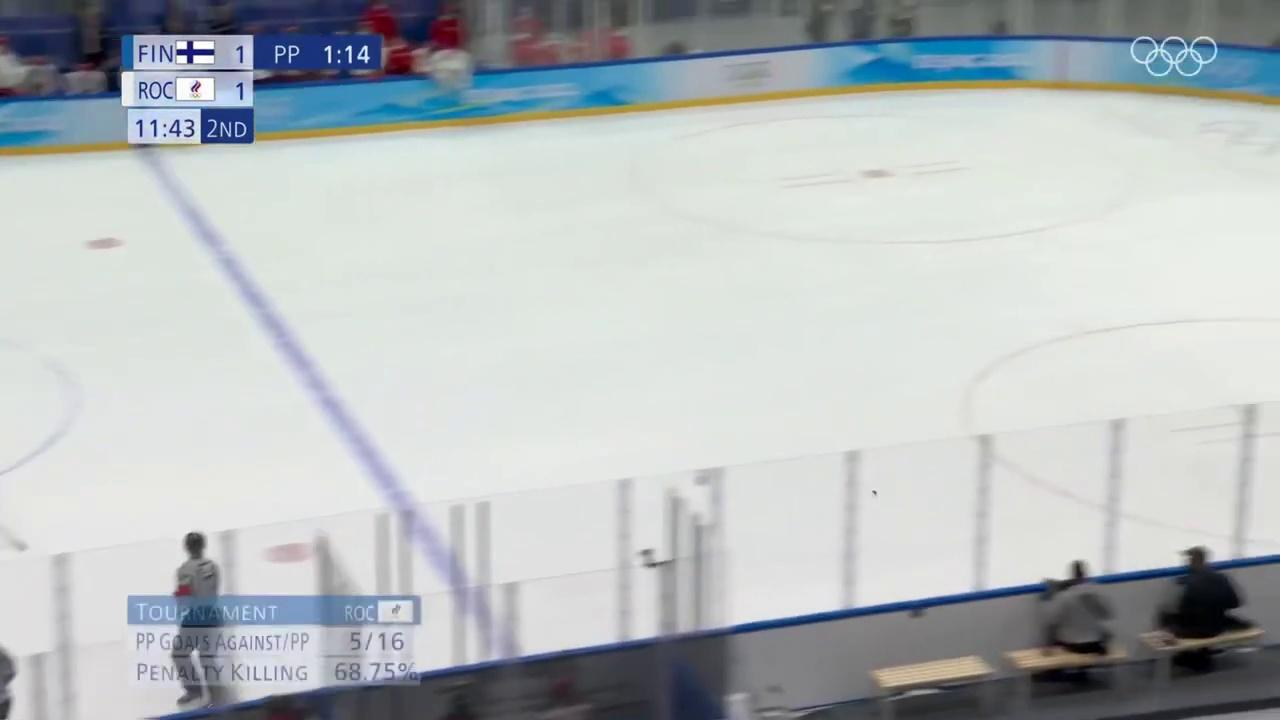ball: (871, 490, 878, 496)
